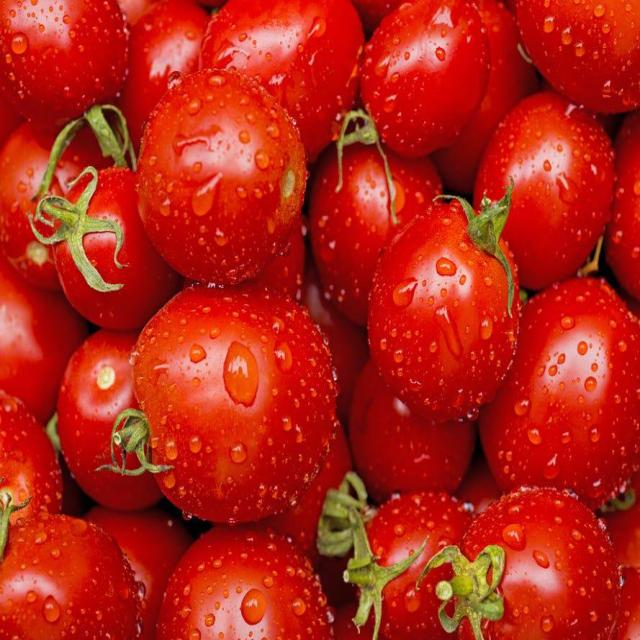Tomato: (135, 276, 335, 514), (140, 71, 312, 281), (374, 191, 516, 406), (483, 91, 607, 287), (467, 484, 613, 640), (148, 530, 340, 626), (58, 336, 144, 504)
